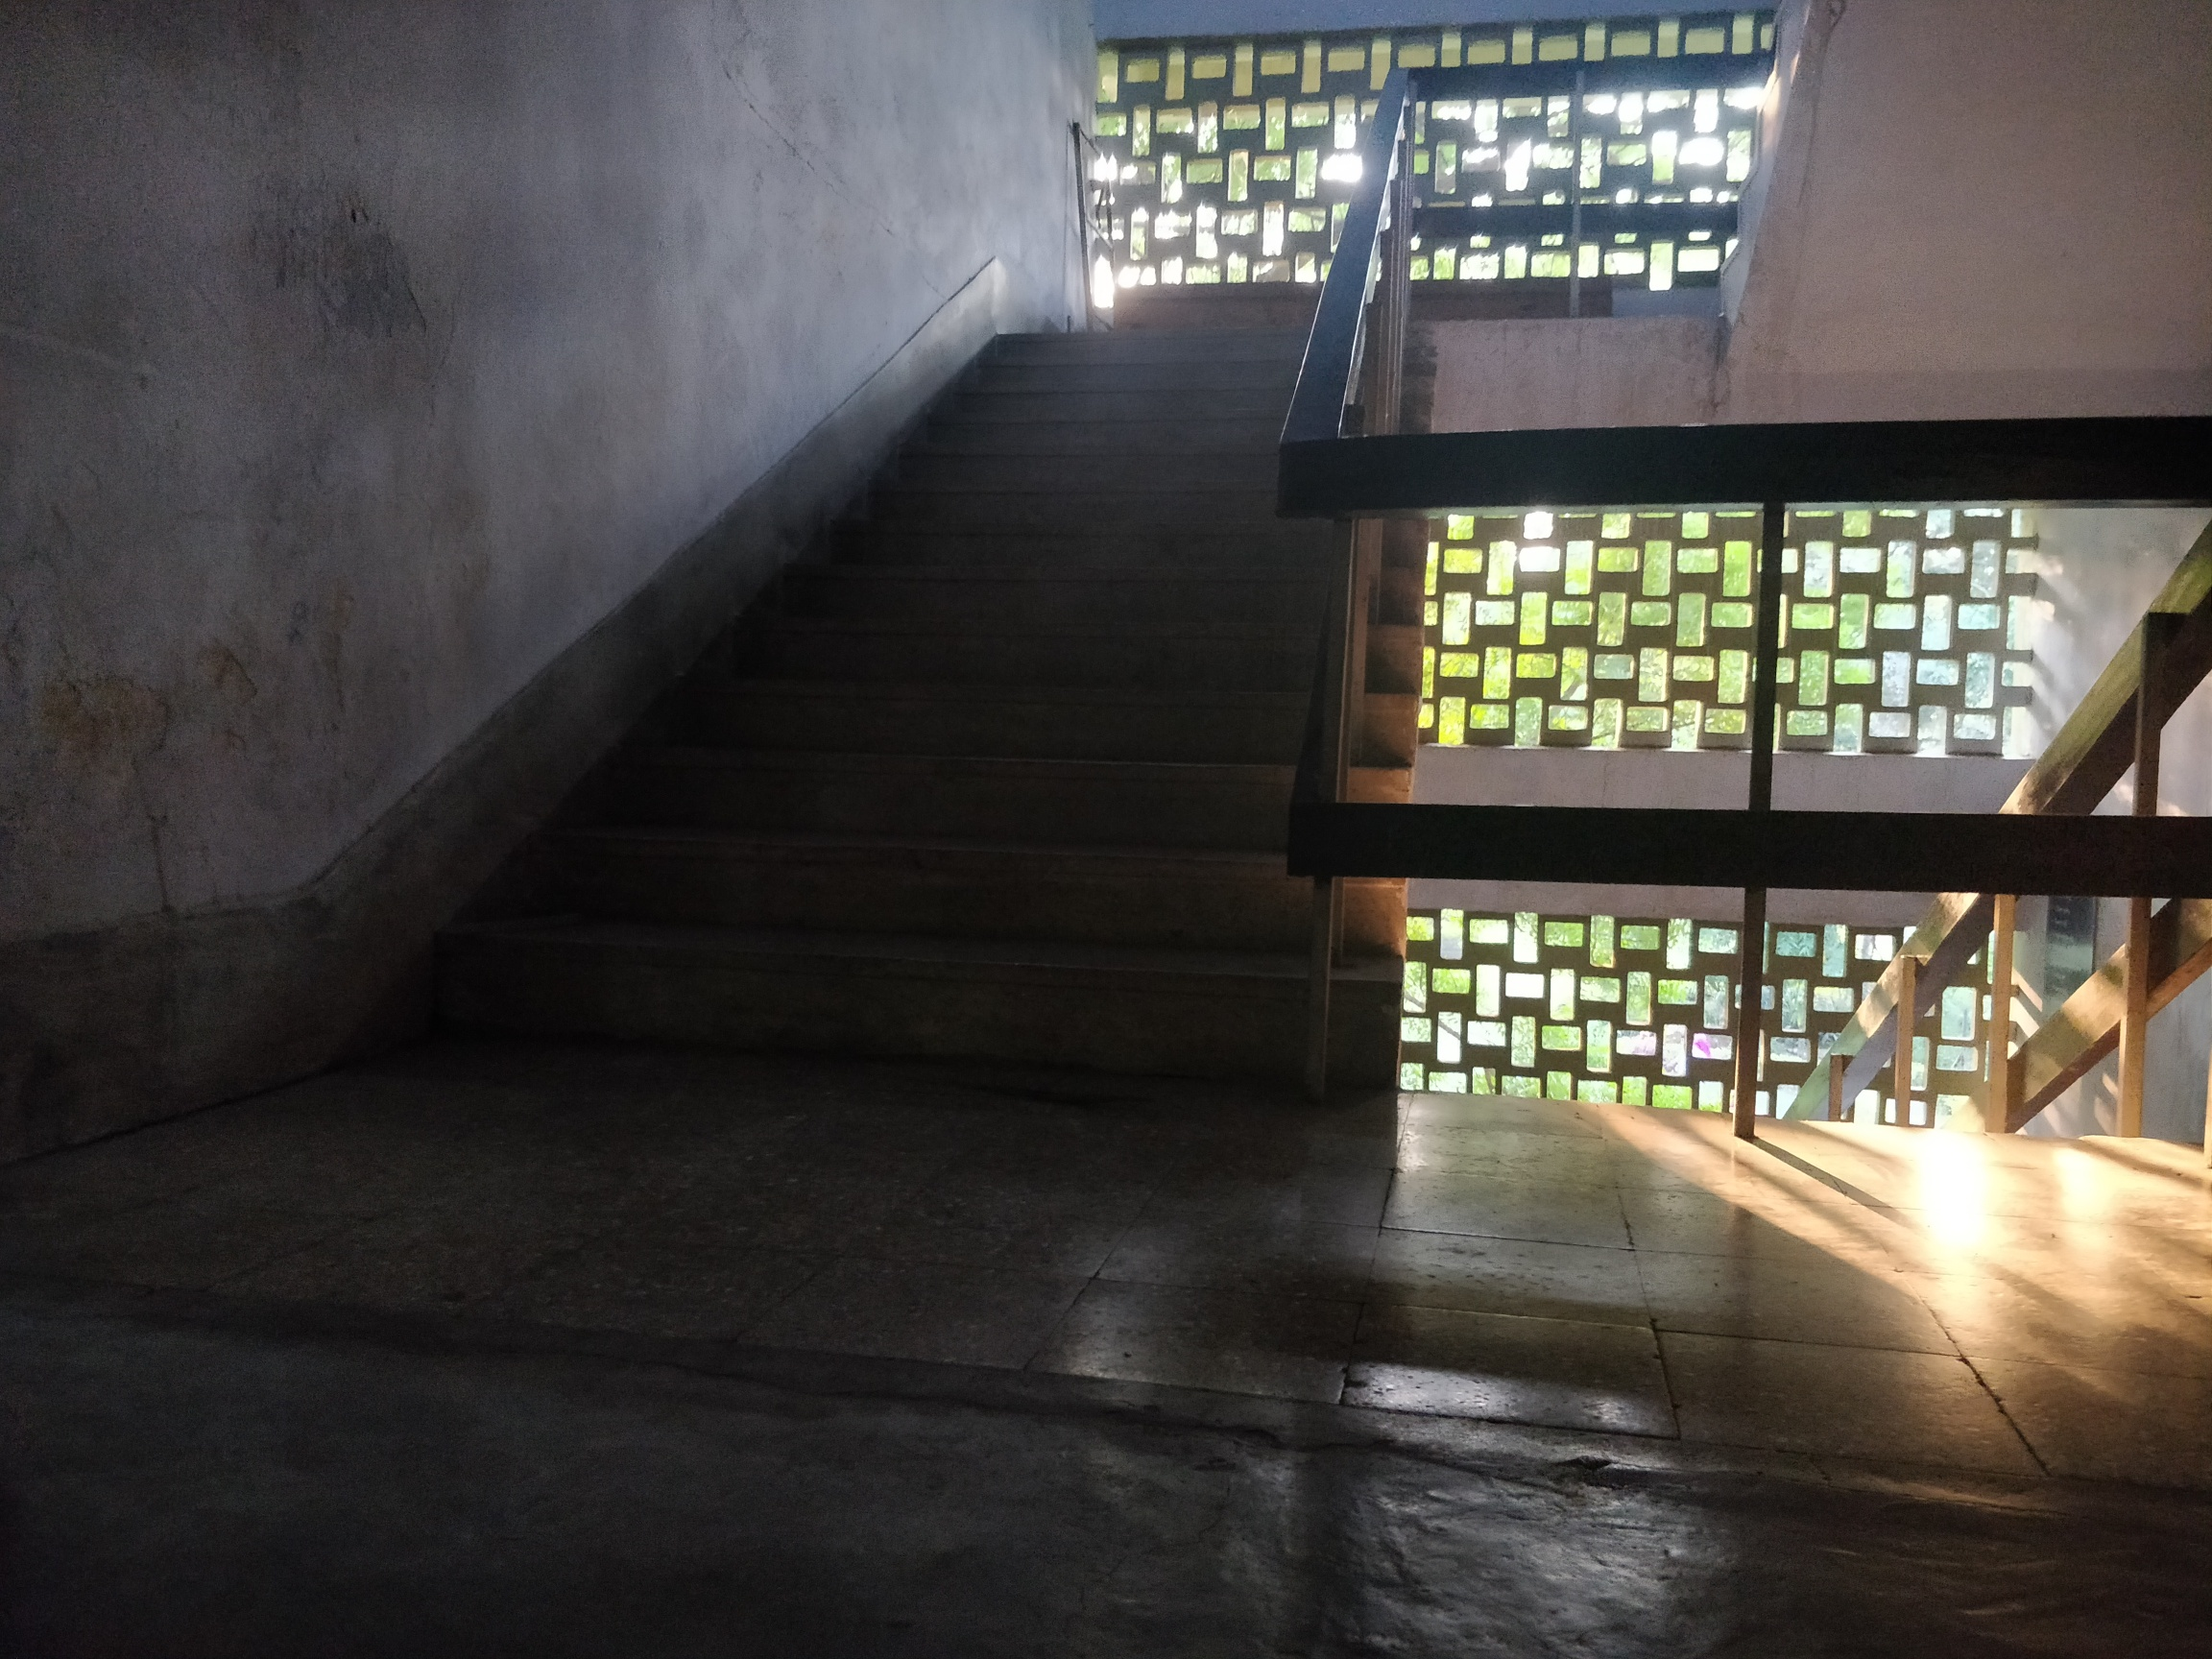stairs_up: (449, 333, 1426, 1084)
